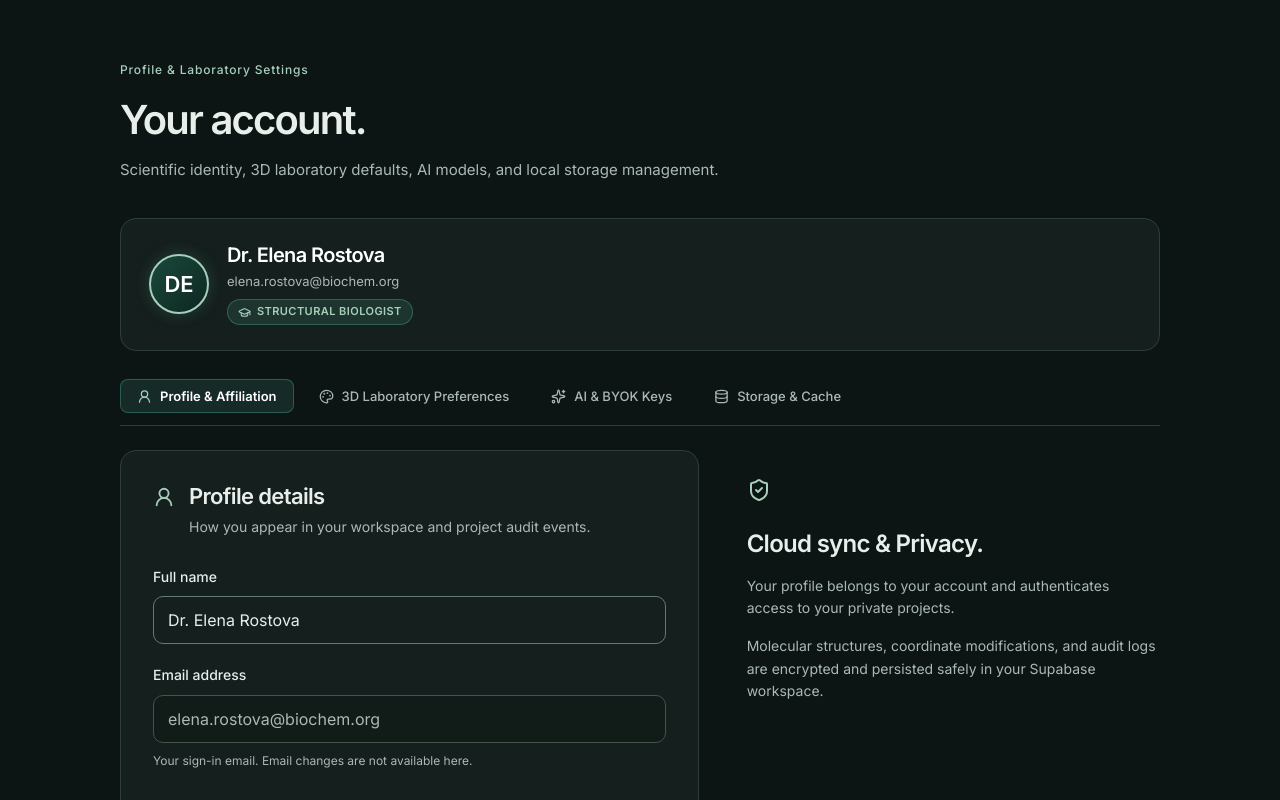
Test: Enhanced AccountPage Component Tests › switches to Storage & Cache tab and allows purging local cache
Note: Click Storage tab
Click the tab "Storage & Cache" at {"x": 778, "y": 396}, box [697,379,858,413]
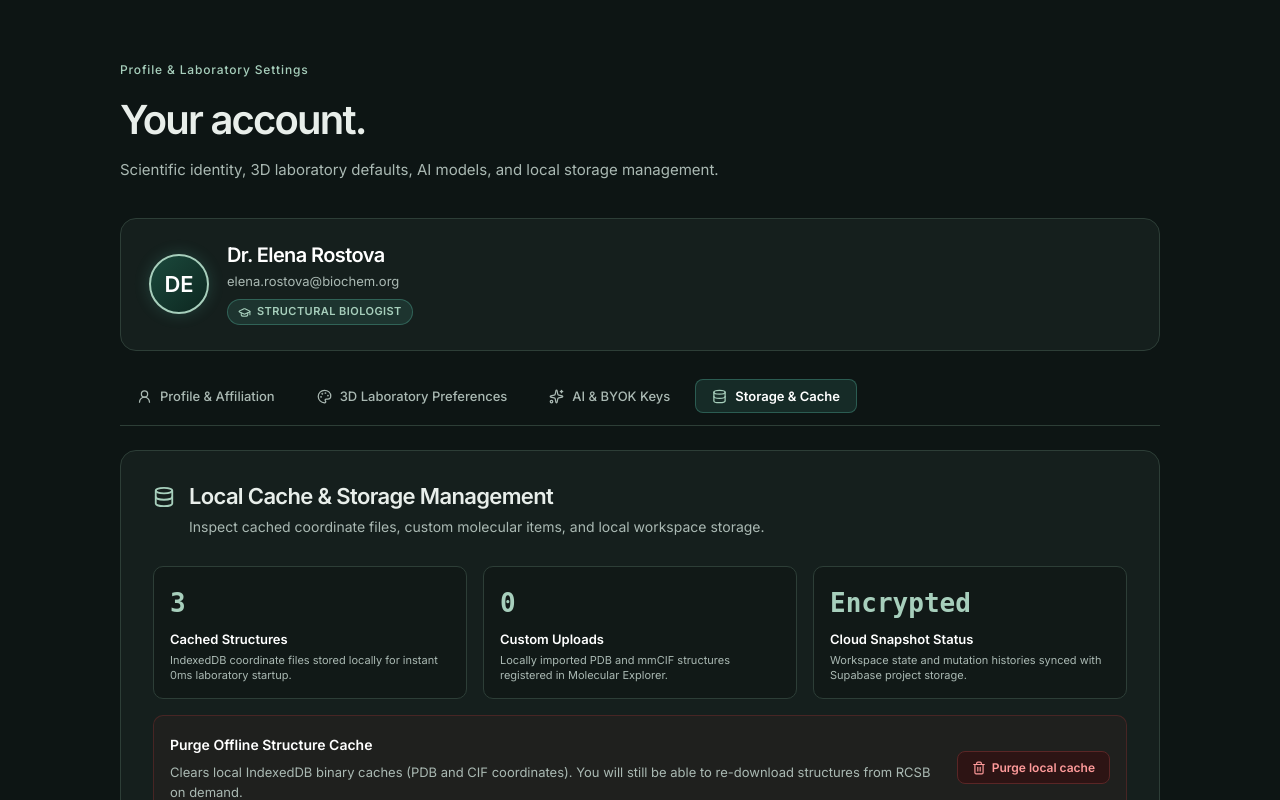
Expected: the heading "Local Cache & Storage Management" is shown, [189,483,553,509]
Expected: the text "3" is shown, [170,588,186,618]
Expected: the text "Cached Structures" is shown, [170,631,288,647]
Note: Click purge button
Click the button "Purge local cache" at {"x": 1033, "y": 768}, box [957,751,1110,784]
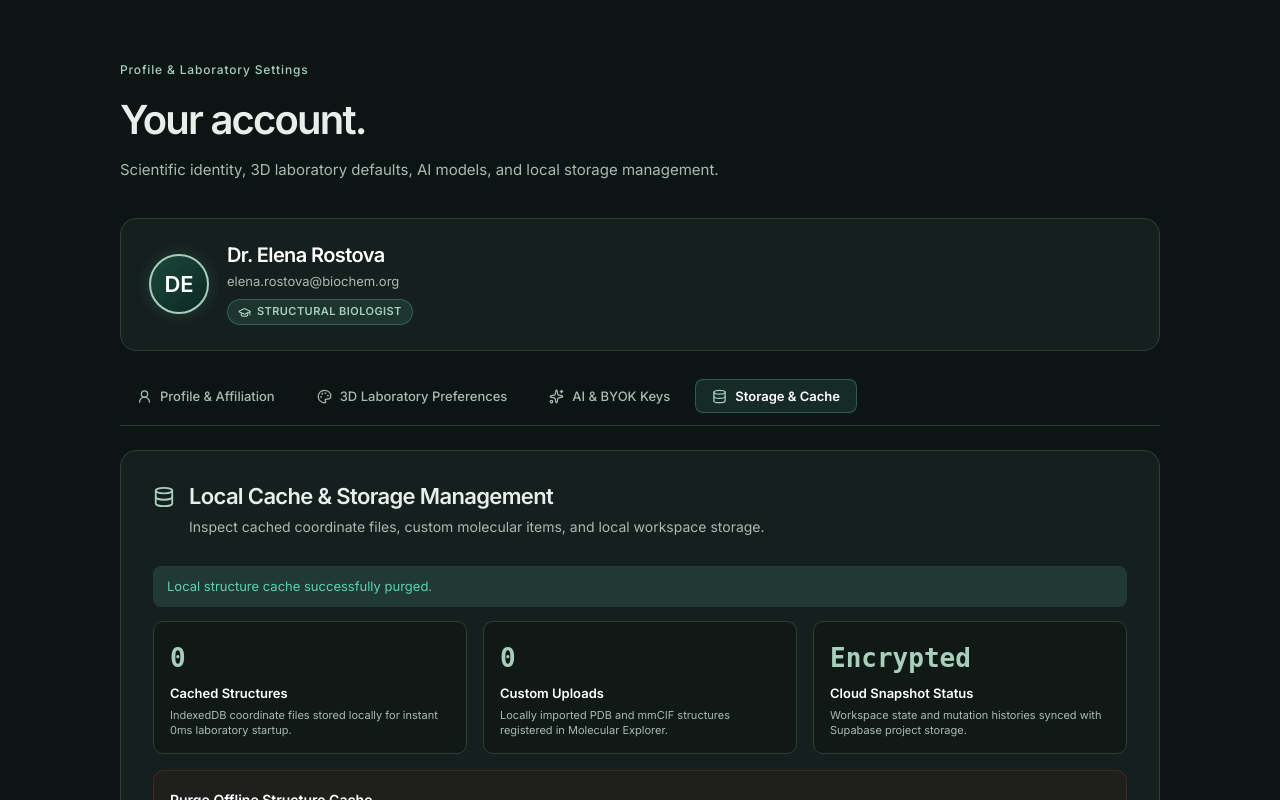
Expected: the text "Local structure cache successfully purged." is shown, [153,566,1127,607]
